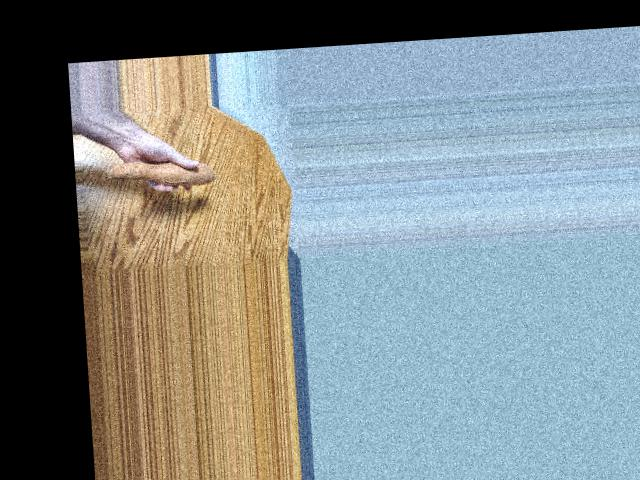sweet_potato: (103, 150, 222, 191)
